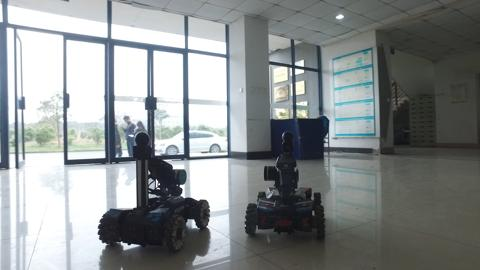chariot: (88, 129, 214, 253), (242, 128, 337, 244)
